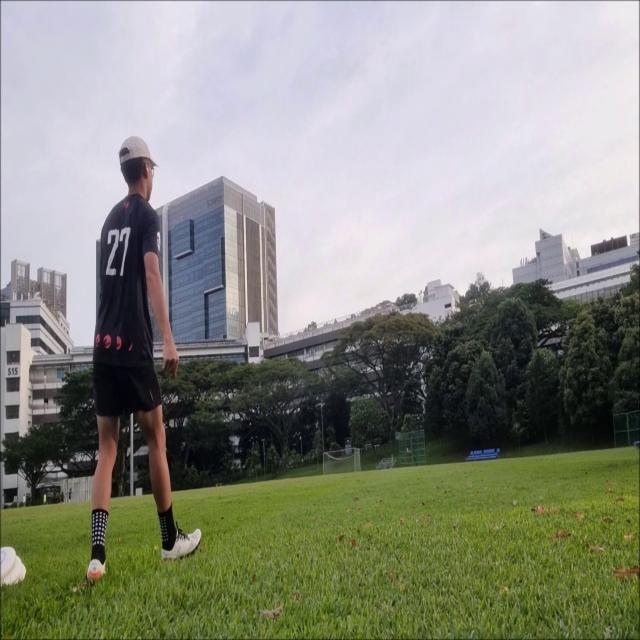disc: (479, 277, 489, 285)
